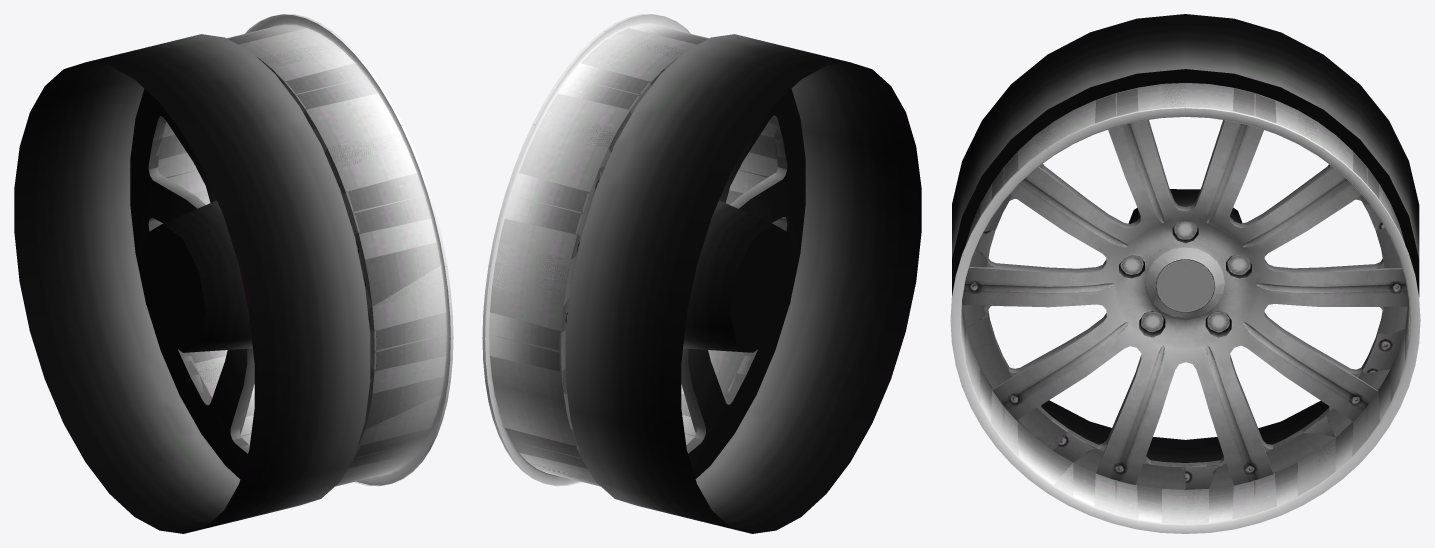
File: wheel10.fbx
The picture shows the model from 3 angles, left to right: view 1: azimuth 30°, elevation 25°; view 2: azimuth 150°, elevation 25°; view 3: azimuth 270°, elevation 25°; orthographic projection. The views are drawn at different scales.
Parts seen in each view (by area): view 1: asa_af134_wheel_wheel_inner_rim_, wheel_rim, asa_af134_wheel_wheel_chrome_rim_; view 2: asa_af134_wheel_wheel_inner_rim_, wheel_rim, asa_af134_wheel_wheel_chrome_rim_; view 3: asa_af134_wheel_wheel_chrome_rim_, wheel_rim, asa_af134_wheel_wheel_inner_rim_, asa_af134_wheel_wheel_wheel_emblem_.
Boxes of the visible parts, left/top/right/bottom form: asa_af134_wheel_wheel_inner_rim_: left=14, top=34, right=370, bottom=533; wheel_rim: left=149, top=14, right=453, bottom=486; asa_af134_wheel_wheel_chrome_rim_: left=148, top=15, right=450, bottom=485; asa_af134_wheel_wheel_inner_rim_: left=565, top=34, right=921, bottom=533; wheel_rim: left=482, top=14, right=786, bottom=486; asa_af134_wheel_wheel_chrome_rim_: left=487, top=15, right=787, bottom=485; asa_af134_wheel_wheel_chrome_rim_: left=950, top=83, right=1411, bottom=533; wheel_rim: left=950, top=83, right=1420, bottom=533; asa_af134_wheel_wheel_inner_rim_: left=952, top=14, right=1419, bottom=462; asa_af134_wheel_wheel_wheel_emblem_: left=1146, top=247, right=1224, bottom=318.
Size of the model in its own units: 0.2278 by 0.48 by 0.4801.
Materials: 1 (1 with a texture image).
